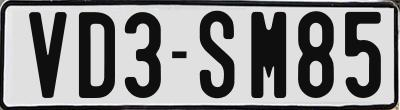3: (125, 11, 165, 100)
5: (344, 9, 380, 98)
8: (295, 11, 331, 99)
D: (76, 10, 116, 98)
M: (250, 12, 289, 102)
S: (198, 9, 234, 97)
V: (26, 11, 67, 100)
